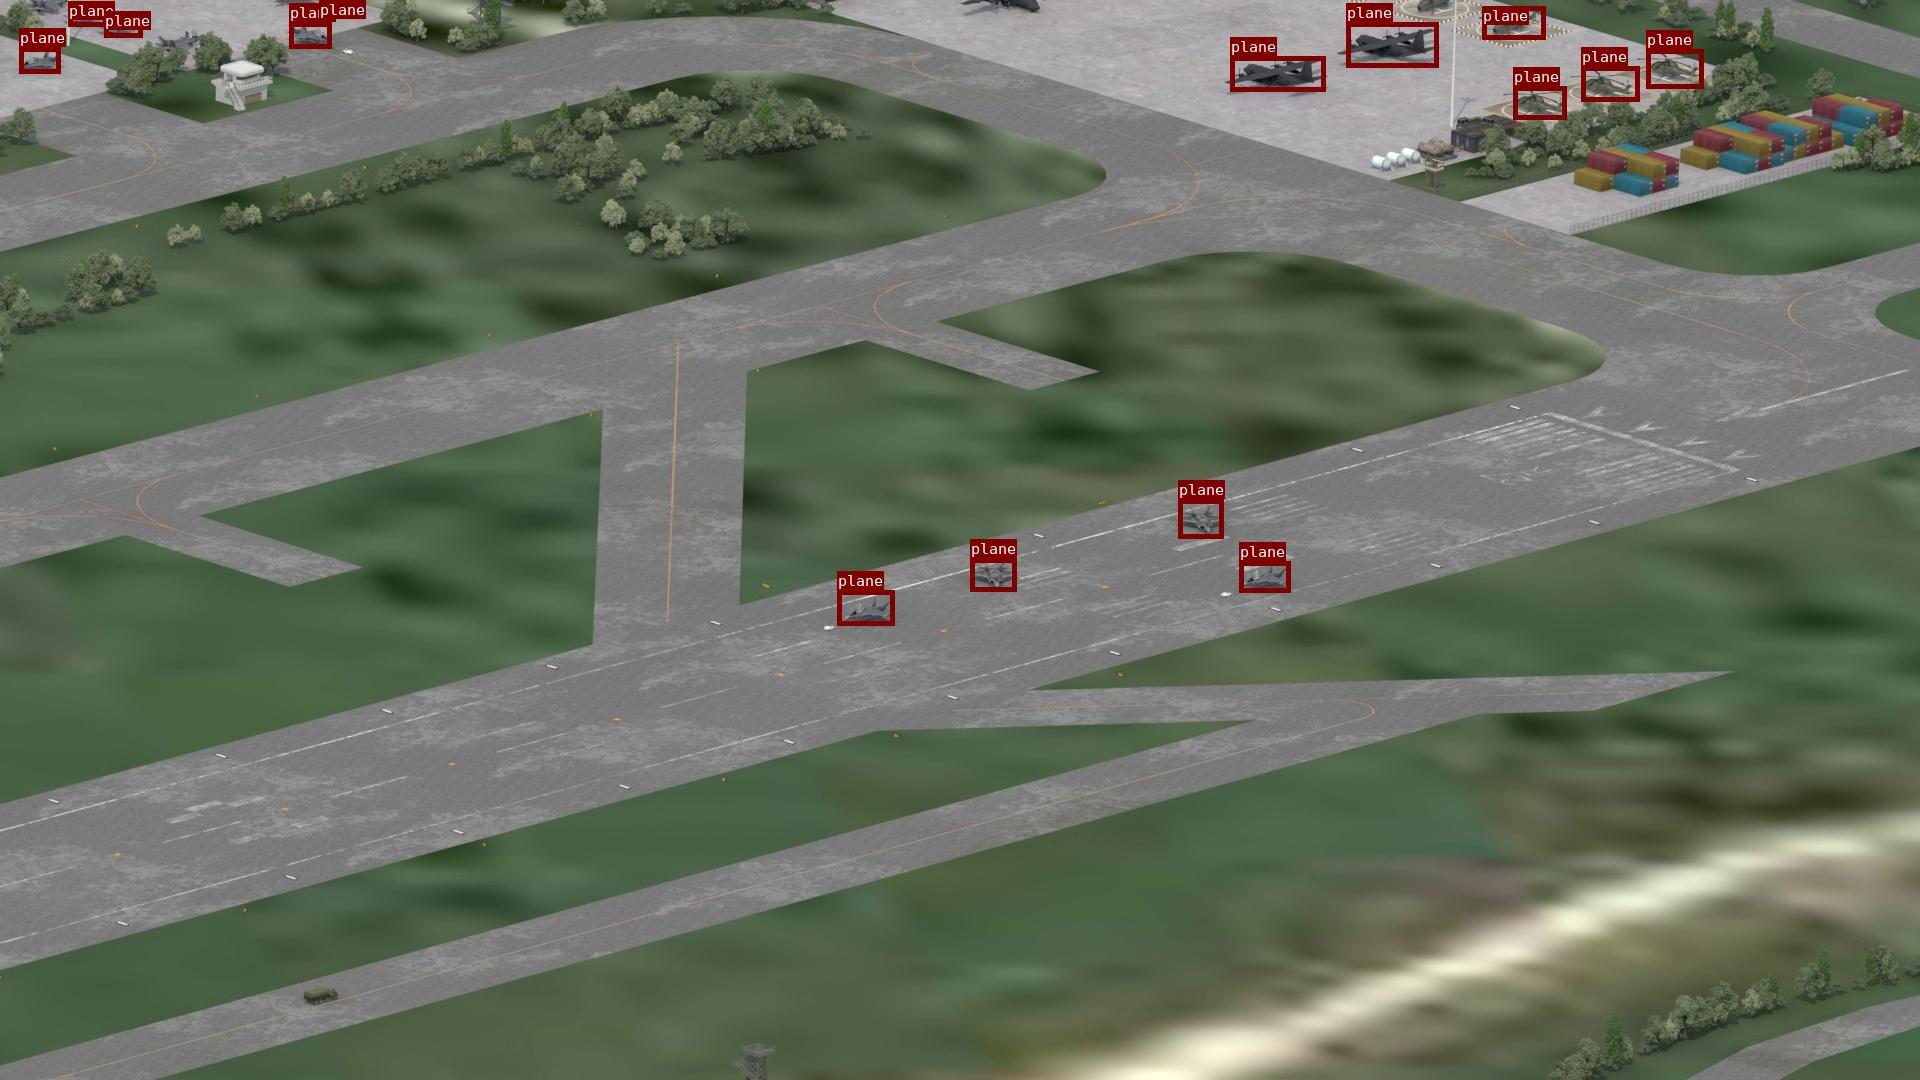plane: (1346, 22, 1437, 67), (1230, 55, 1325, 91), (1646, 49, 1702, 88), (1482, 7, 1545, 40), (1581, 66, 1639, 102), (837, 589, 894, 625), (1513, 86, 1567, 119), (1178, 498, 1222, 538), (1240, 560, 1290, 592), (971, 558, 1015, 591), (18, 47, 61, 73), (289, 22, 331, 47), (104, 11, 142, 37), (69, 1, 107, 26), (319, 0, 361, 15)
